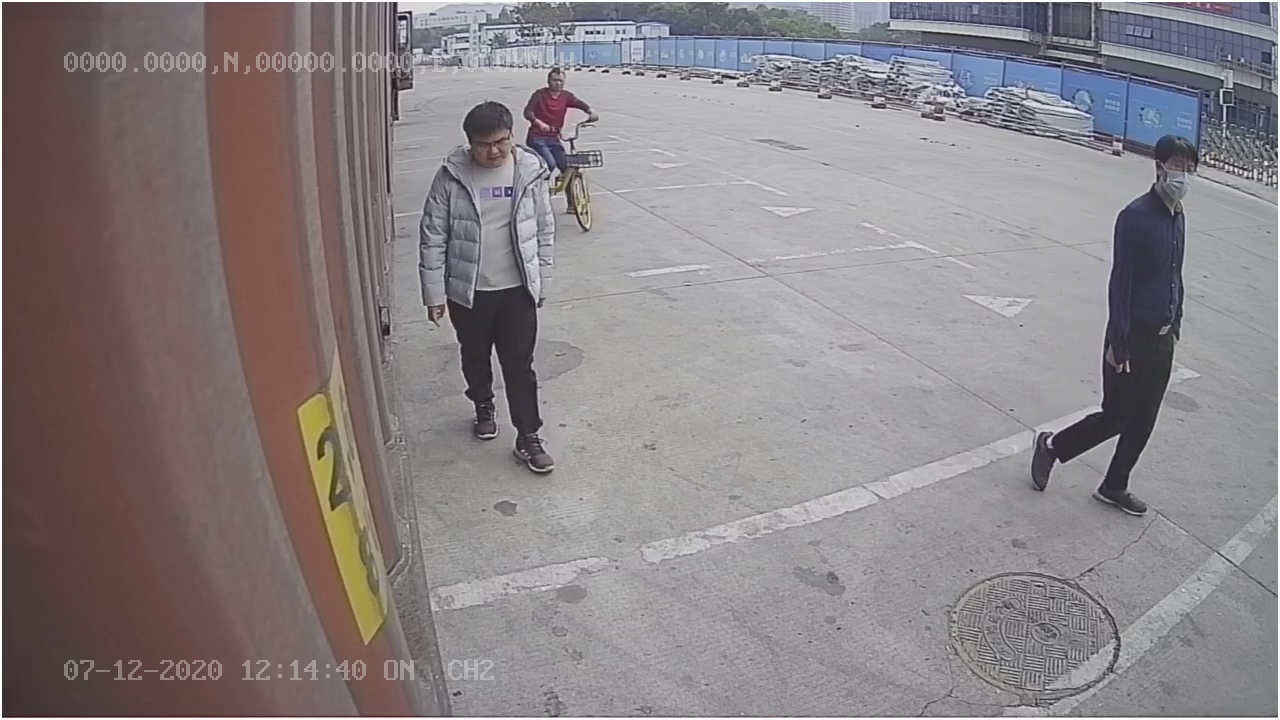person: (1026, 126, 1201, 519)
